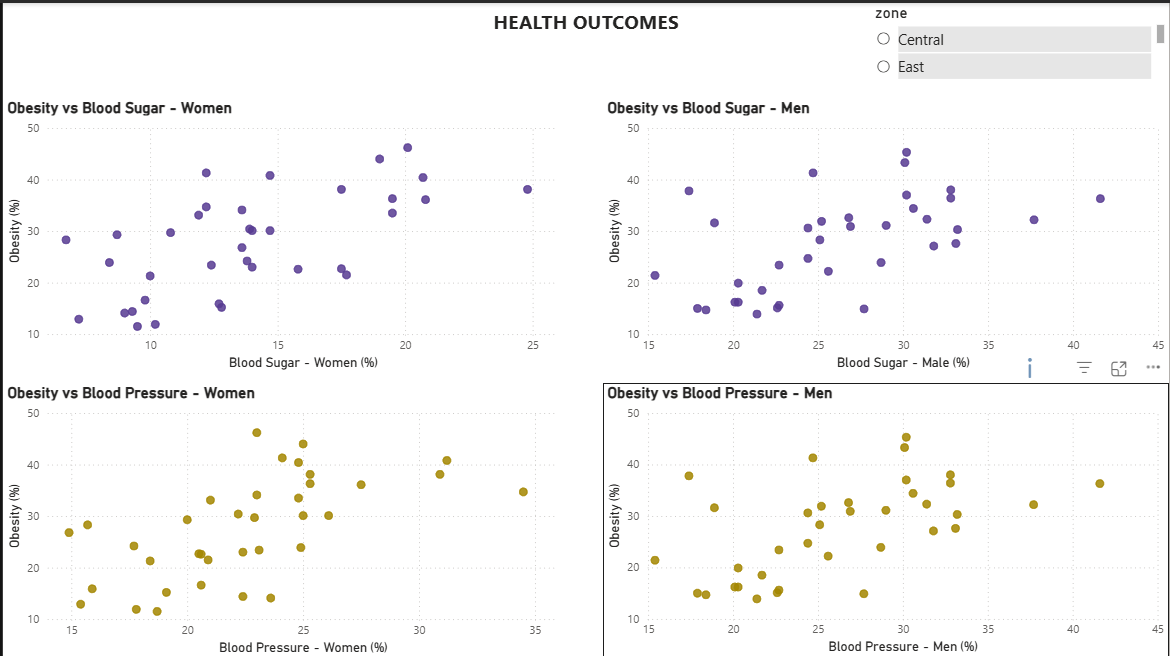

This screenshot's page, from the dashboard's own definition file:
{"tool":"powerbi","page":{"name":"Health Outcomes","canvas":[1280,720],"ordinal":4},"visuals":[{"type":"textbox","box":[0,0,1280.3,53.5],"z":0},{"type":"scatterChart","title":"Obesity vs Blood Sugar - Women","fields":{"Y":["obesity_cleaned.overweight_obese_w"],"X":["obesity_cleaned.blood_sugar_w"]},"box":[0,104.3,621.6,303.3],"z":1000},{"type":"scatterChart","title":"Obesity vs Blood Sugar - Men","fields":{"X":["obesity_cleaned.bp_m"],"Y":["obesity_cleaned.overweight_obese_m"]},"box":[658.7,104.3,621.6,303.3],"z":2000},{"type":"scatterChart","title":"Obesity vs Blood Pressure - Women","fields":{"Y":["obesity_cleaned.overweight_obese_w"],"X":["obesity_cleaned.bp_w"]},"box":[0,417.2,621.6,303.3],"z":3000},{"type":"scatterChart","title":"Obesity vs Blood Pressure - Men","fields":{"X":["obesity_cleaned.bp_m"],"Y":["obesity_cleaned.overweight_obese_m"]},"box":[659,417,621,303],"z":4000},{"type":"listSlicer","fields":{"Values":["obesity_cleaned.zone"]},"box":[952.3,0,328,90.6],"z":5000}]}

Visuals, with their boxes in screenshot pixels (x1, y1, x2, y2), scaled from the page's 1280x720 canvas onto the 1170x656 screenshot:
textbox: (0,0,1169,49)
"Obesity vs Blood Sugar - Women" scatterChart: (0,95,568,371)
"Obesity vs Blood Sugar - Men" scatterChart: (602,95,1169,371)
"Obesity vs Blood Pressure - Women" scatterChart: (0,380,568,655)
"Obesity vs Blood Pressure - Men" scatterChart: (602,380,1169,655)
listSlicer - obesity_cleaned.zone: (870,0,1169,83)
